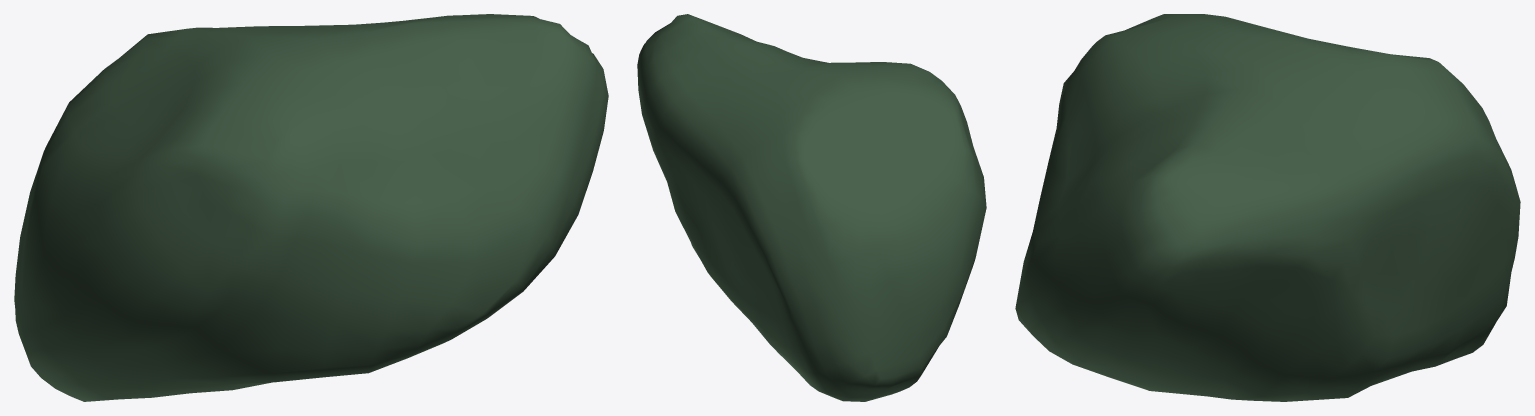
The model's file is Rock1.fbx.
3 renders of one model, left to right at view 1: azimuth 30°, elevation 25°; view 2: azimuth 150°, elevation 25°; view 3: azimuth 270°, elevation 25°, orthographic. The views are drawn at different scales.
Visible parts, largest first — view 1: rock1LP:rock1LP; view 2: rock1LP:rock1LP; view 3: rock1LP:rock1LP.
Boxes of the visible parts, x1,y1,x2,y2 form: rock1LP:rock1LP: [14, 14, 608, 401]; rock1LP:rock1LP: [637, 14, 986, 401]; rock1LP:rock1LP: [1015, 14, 1520, 401].
Bounding box in the file's own units: 5.15 × 3.66 × 4.3.
